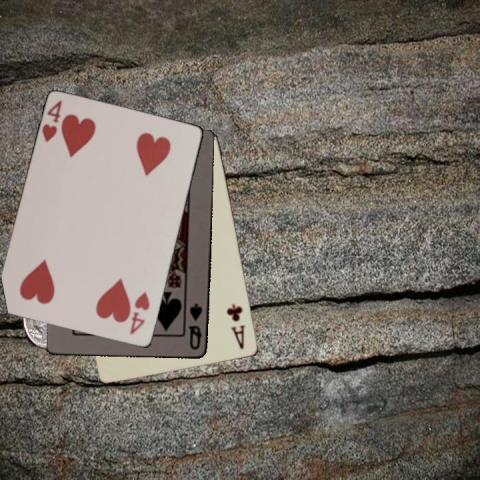4h: (39, 97, 64, 144), (127, 288, 151, 336)
Ac: (224, 301, 246, 351)
Qs: (185, 301, 205, 351)
